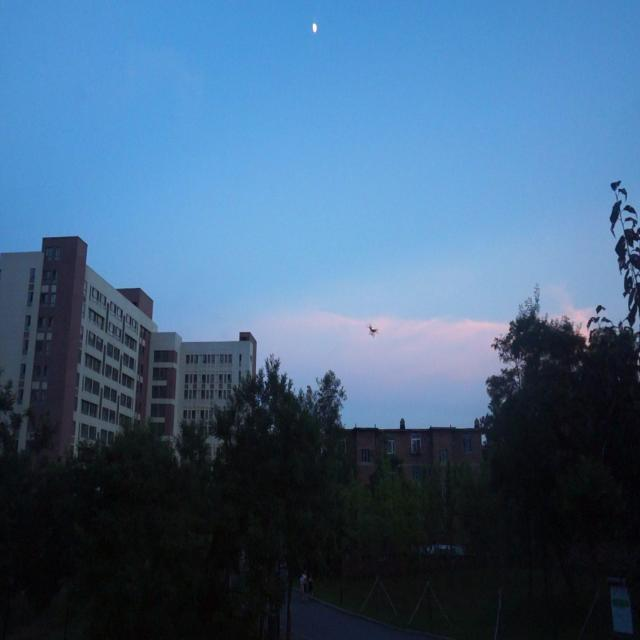drone: (367, 319, 378, 338)
